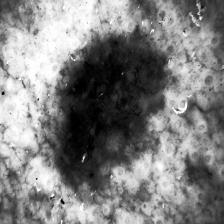Benign Marking or Mole: (53, 40, 166, 168)
